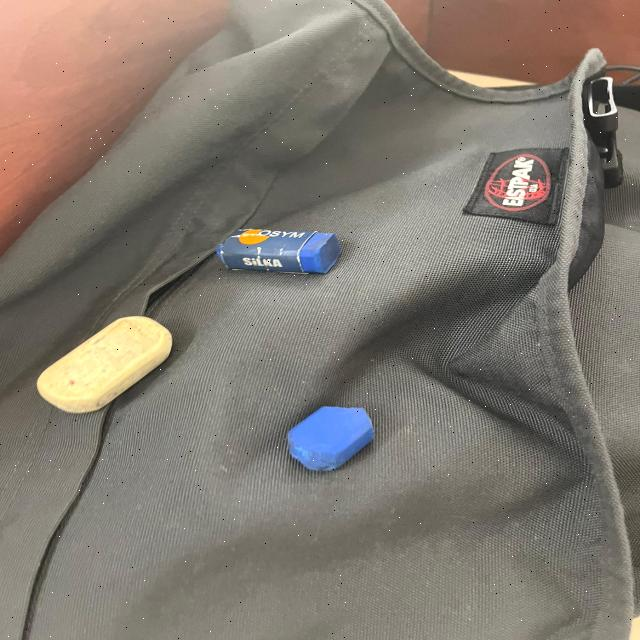eraser: (19, 314, 200, 420), (281, 396, 397, 472), (214, 222, 358, 283)
